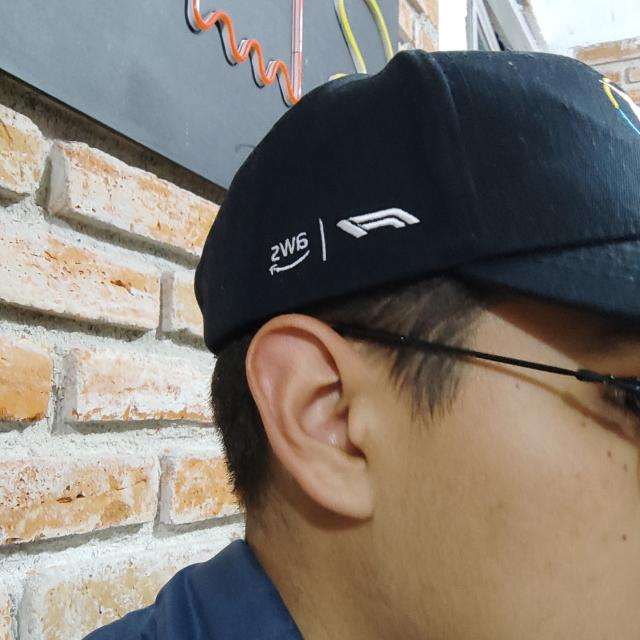ear: (245, 314, 374, 519)
